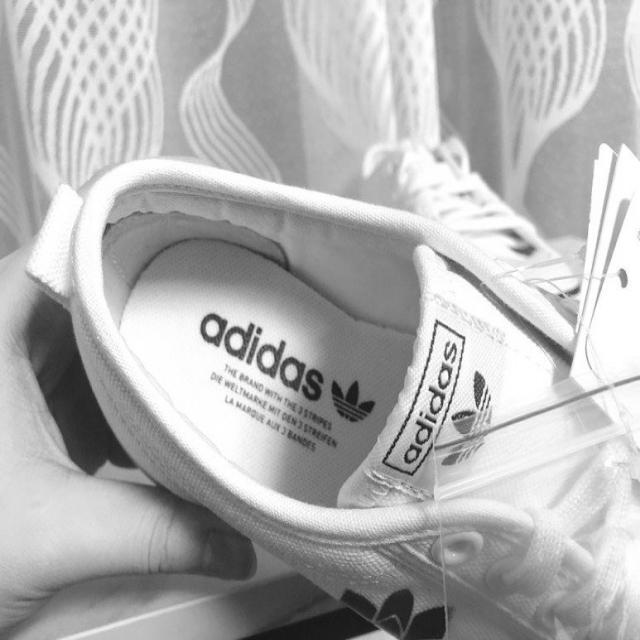Adidas: (437, 363, 498, 476), (325, 360, 380, 440)
